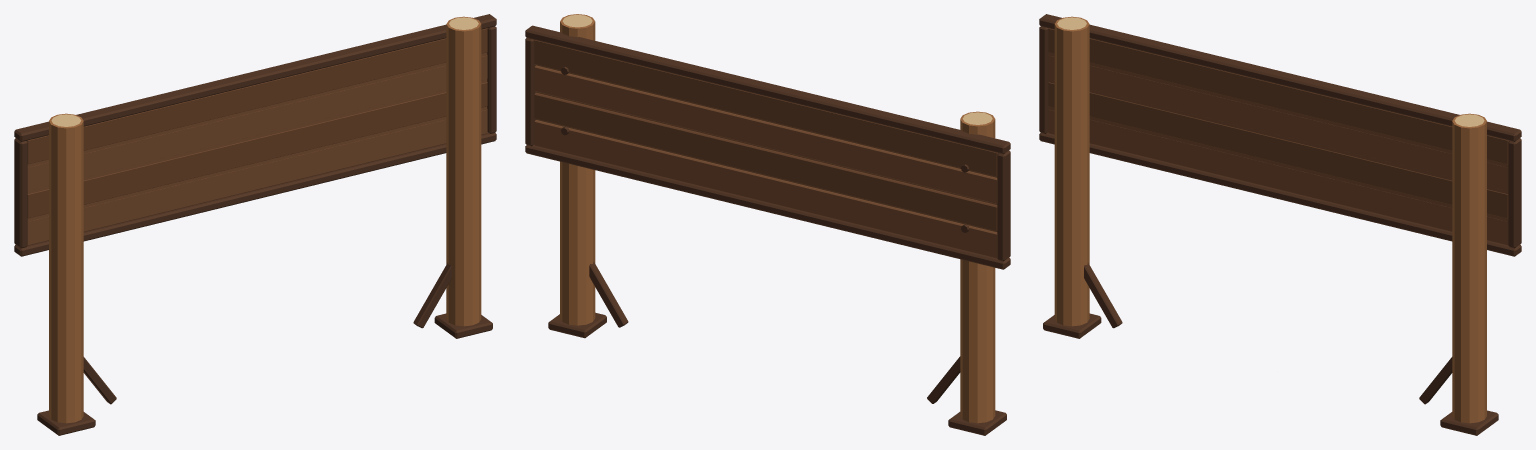
Rendered from start_board.glb.
3 renders of one model, left to right at view 1: azimuth 30°, elevation 25°; view 2: azimuth 150°, elevation 25°; view 3: azimuth 330°, elevation 25°, orthographic.
Visible parts, largest first — view 1: WoodPlanks__7A4E30, Wood__A86E40, WoodPlanks__6C442A, Wood__523422, Wood__DEBC8C; view 2: WoodPlanks__7A4E30, WoodPlanks__6C442A, Wood__523422, Wood__A86E40, Wood__DEBC8C; view 3: WoodPlanks__7A4E30, Wood__A86E40, WoodPlanks__6C442A, Wood__523422, Wood__DEBC8C.
Boxes of the visible parts, box(x1,y1,x2,y2) form: WoodPlanks__7A4E30: box(27, 52, 487, 245); Wood__A86E40: box(49, 16, 481, 423); WoodPlanks__6C442A: box(26, 28, 487, 218); Wood__523422: box(14, 14, 496, 435); Wood__DEBC8C: box(51, 17, 478, 126); WoodPlanks__7A4E30: box(534, 65, 997, 258); WoodPlanks__6C442A: box(534, 40, 998, 231); Wood__523422: box(525, 25, 1010, 435); Wood__A86E40: box(560, 14, 995, 423); Wood__DEBC8C: box(562, 14, 992, 124); WoodPlanks__7A4E30: box(1048, 52, 1508, 245); Wood__A86E40: box(1054, 16, 1486, 423); WoodPlanks__6C442A: box(1048, 28, 1509, 218); Wood__523422: box(1039, 14, 1521, 435); Wood__DEBC8C: box(1057, 17, 1484, 126).
Size of the model in its own units: 30 by 18.25 by 2.65.
